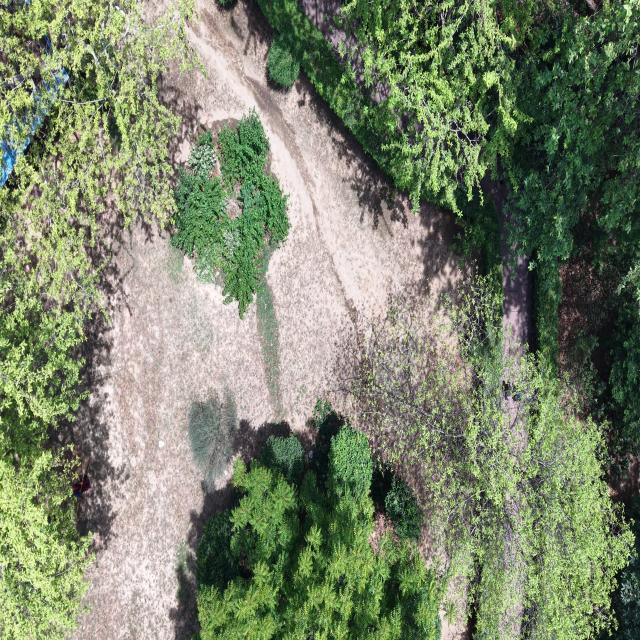DRY_AREA: (68, 0, 459, 639), (163, 2, 458, 423), (481, 168, 532, 381), (481, 172, 532, 379), (481, 172, 531, 381), (481, 172, 531, 379), (481, 172, 532, 362), (481, 172, 532, 361), (482, 172, 532, 362), (298, 0, 390, 102), (558, 255, 619, 402), (558, 256, 616, 379), (500, 213, 532, 358), (298, 0, 358, 58), (298, 0, 358, 55), (298, 0, 357, 54), (608, 455, 639, 514), (609, 456, 639, 505)
PATHWAYS: (481, 173, 531, 361)
VEGETATION_TREE: (197, 0, 639, 639), (259, 0, 639, 637), (260, 0, 639, 464), (341, 0, 639, 458), (0, 0, 193, 638), (260, 0, 639, 303), (354, 279, 633, 639), (0, 0, 192, 459), (335, 0, 639, 262), (505, 0, 639, 475), (512, 3, 639, 461), (259, 0, 530, 210), (504, 0, 639, 412), (198, 412, 441, 639), (198, 403, 422, 637), (0, 0, 192, 237), (335, 0, 525, 210), (506, 0, 639, 263), (259, 0, 401, 185), (172, 110, 290, 317), (557, 225, 639, 481), (0, 451, 92, 639), (172, 132, 238, 280), (598, 291, 639, 456), (358, 452, 423, 542), (452, 188, 502, 291), (189, 390, 238, 490), (371, 453, 423, 542), (256, 245, 281, 414), (613, 496, 639, 639), (197, 510, 240, 590), (327, 428, 372, 497), (385, 477, 422, 540), (260, 435, 304, 484), (267, 37, 300, 89), (219, 0, 233, 7)
